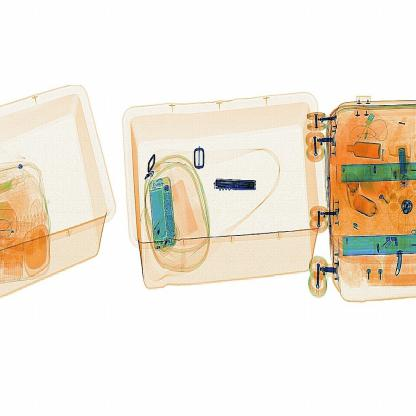scissors: (213, 180, 263, 194)
